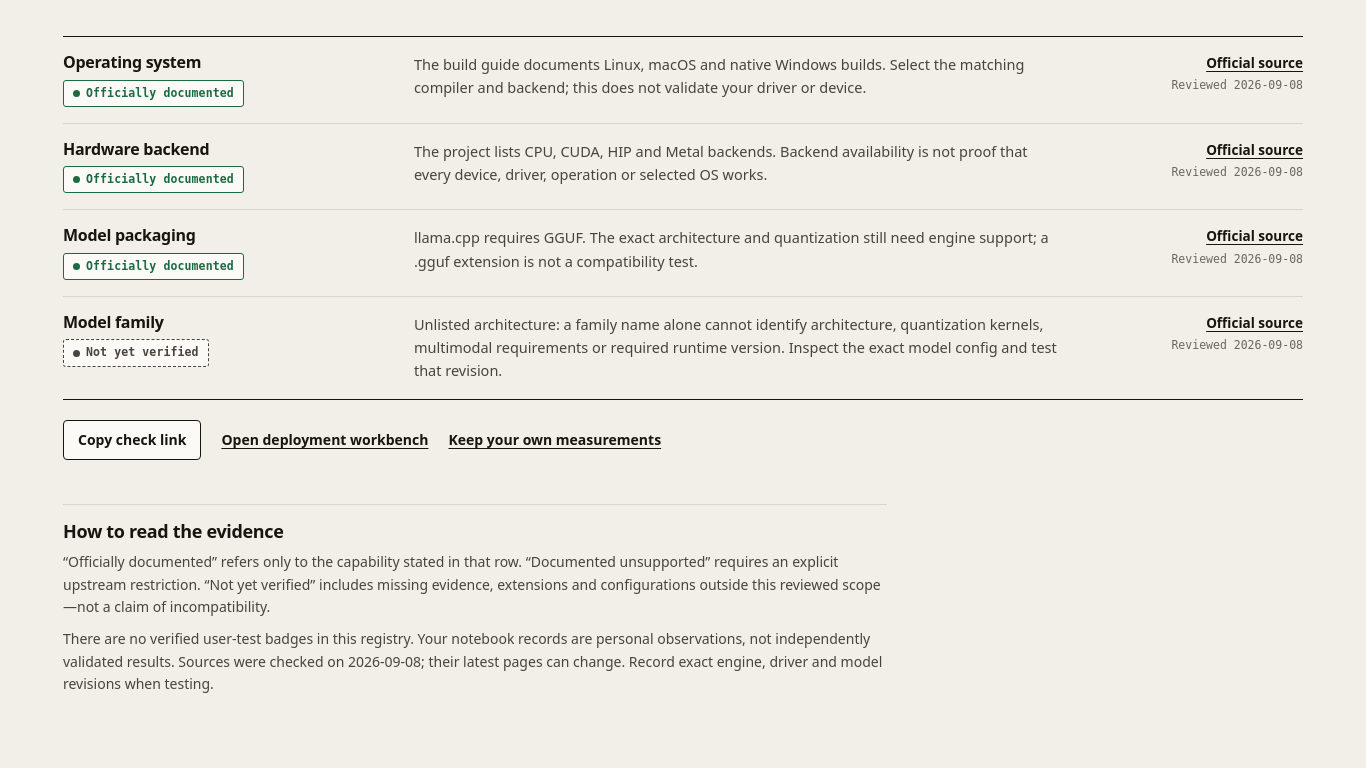
it: compatibility UI › reports clipboard errors
This screenshot has width=1366, height=768.
(page scrolled)
What coordinates should you click on to do the following:
click the button "Copy check link"
I would click on:
 (132, 440)
Its box is x1=63 y1=420 x2=201 y2=460.
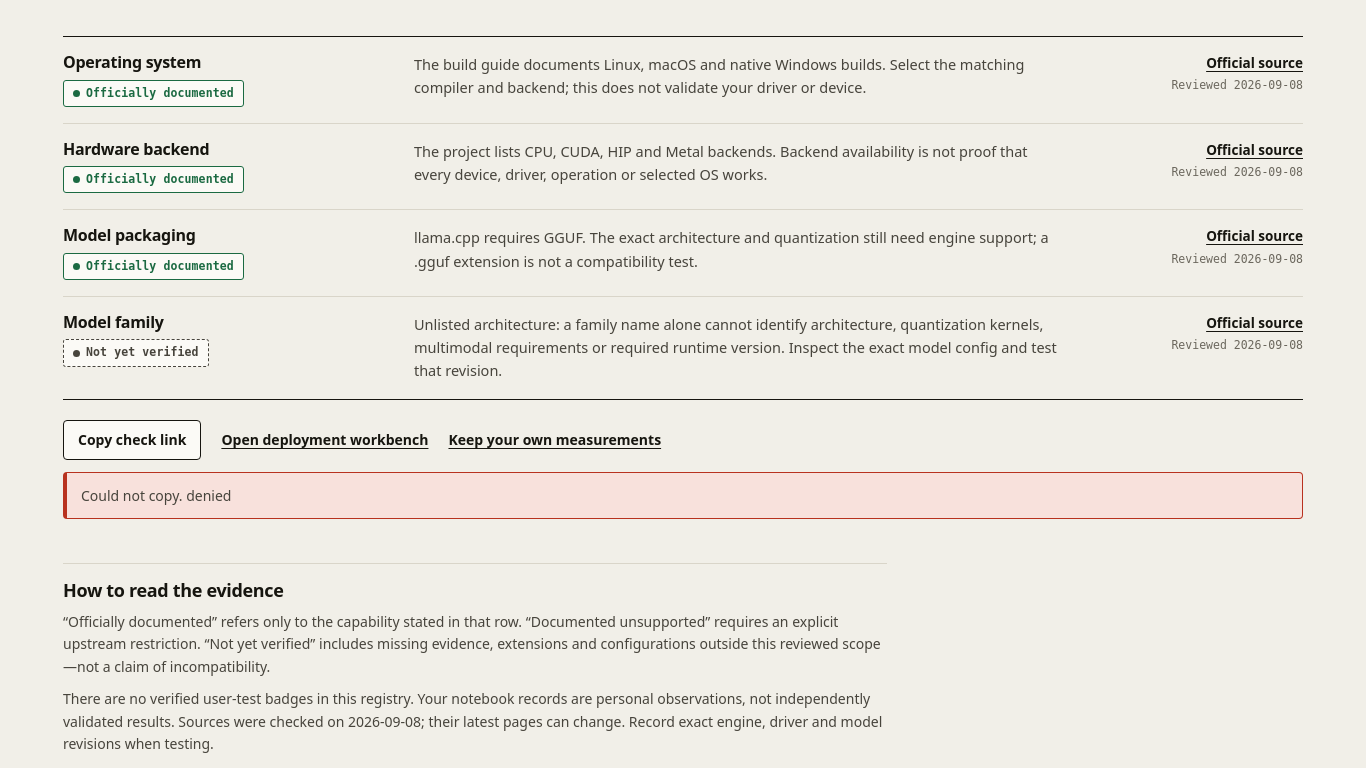
Expected: the message shows "Could not copy", x1=81 y1=486 x2=231 y2=505
